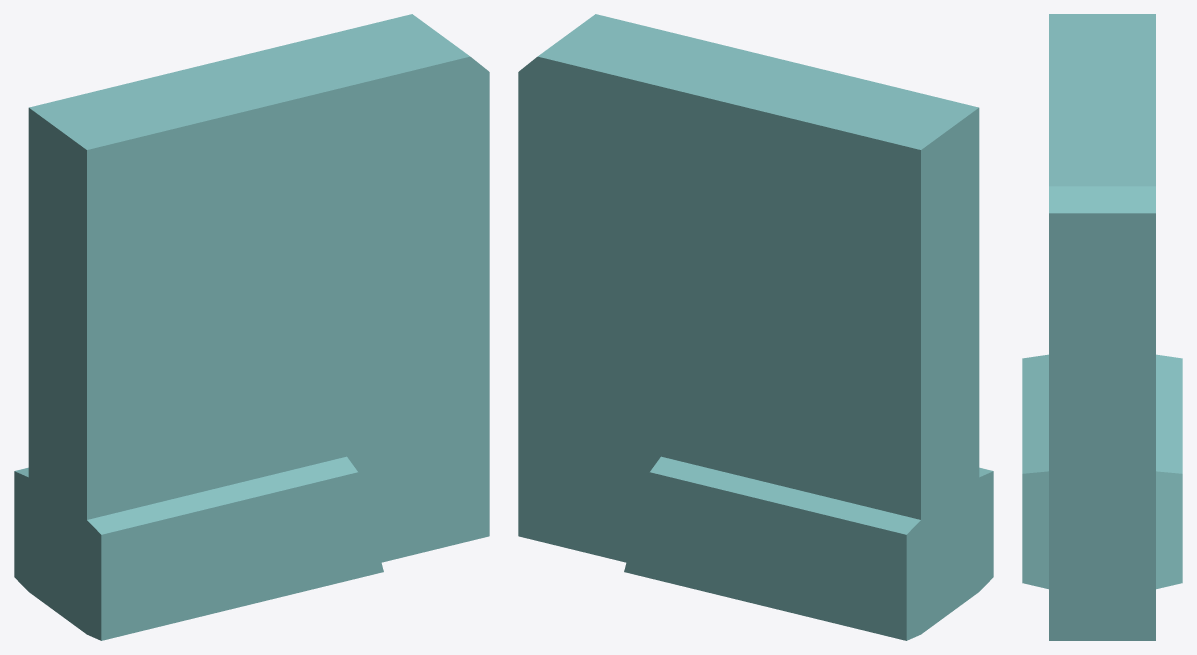
Rendered from cassette.glb.
The picture shows the model from 3 angles, left to right: view 1: azimuth 30°, elevation 25°; view 2: azimuth 150°, elevation 25°; view 3: azimuth 270°, elevation 25°; orthographic projection. The views are drawn at different scales.
Visible parts, largest first — view 1: cassette; view 2: cassette; view 3: cassette.
Boxes of the visible parts, <box> form: cassette: <box>14,14,489,640</box>; cassette: <box>518,14,993,640</box>; cassette: <box>1022,14,1182,640</box>.
Bounding box in the file's own units: 0.9 × 1.03 × 0.3371.
